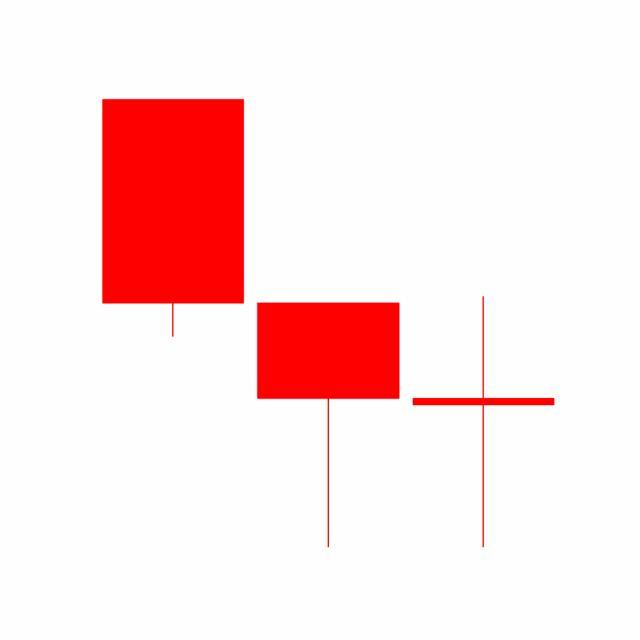Hammer: (250, 301, 407, 552)
